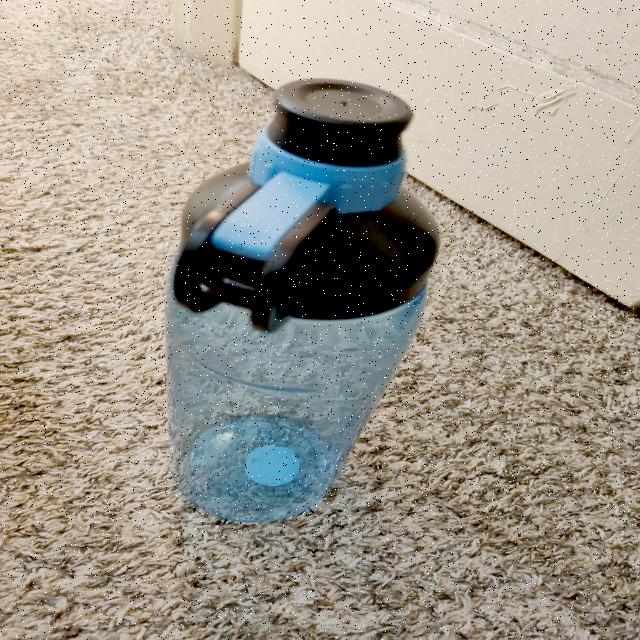bottle: (174, 85, 401, 509)
